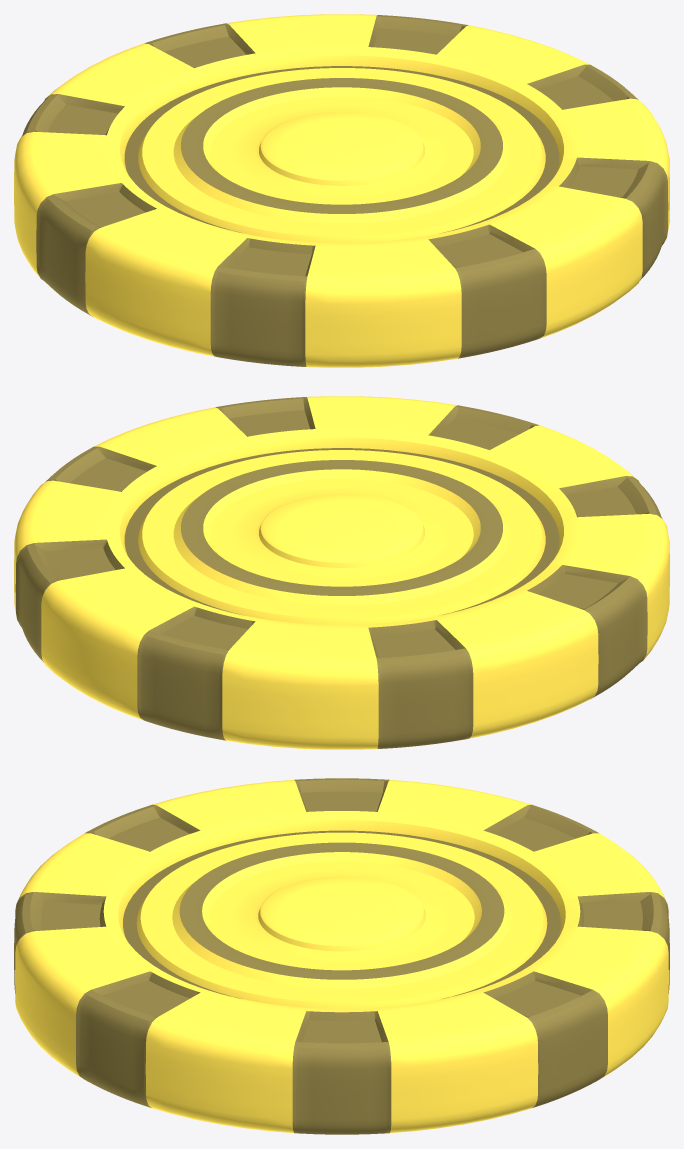
File: PokerChip_Yellow.glb
3 views of the same model, one above another, from view 1: azimuth 30°, elevation 25°; view 2: azimuth 150°, elevation 25°; view 3: azimuth 270°, elevation 25° (orthographic).
Visible parts, largest first — view 1: PokerChip_Yellow; view 2: PokerChip_Yellow; view 3: PokerChip_Yellow.
Part boxes in pixels (x1=…): PokerChip_Yellow: x1=14, y1=14, x2=669, y2=367; PokerChip_Yellow: x1=14, y1=396, x2=669, y2=749; PokerChip_Yellow: x1=14, y1=778, x2=669, y2=1134.
Size of the model in its own units: 1.98 by 0.324 by 1.98.
